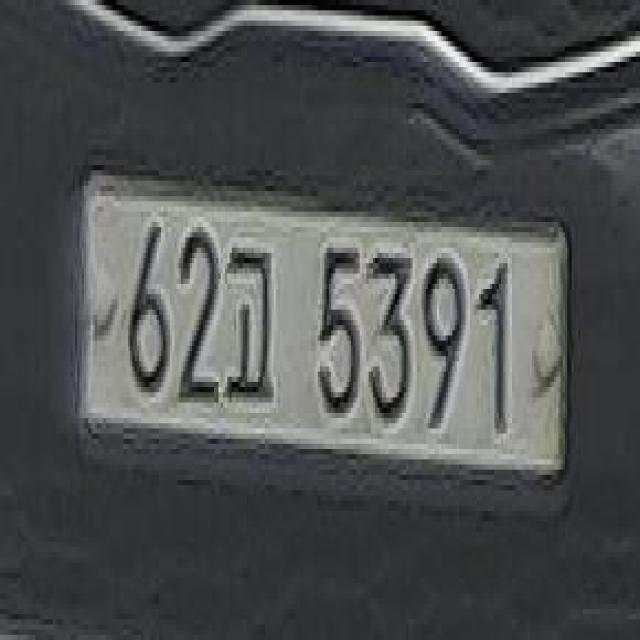1: (473, 244, 516, 446)
2: (174, 212, 222, 404)
3: (367, 244, 413, 427)
5: (317, 230, 363, 423)
6: (124, 208, 171, 406)
9: (420, 240, 470, 436)
go: (226, 232, 280, 418)
license_plate: (63, 148, 579, 528)
